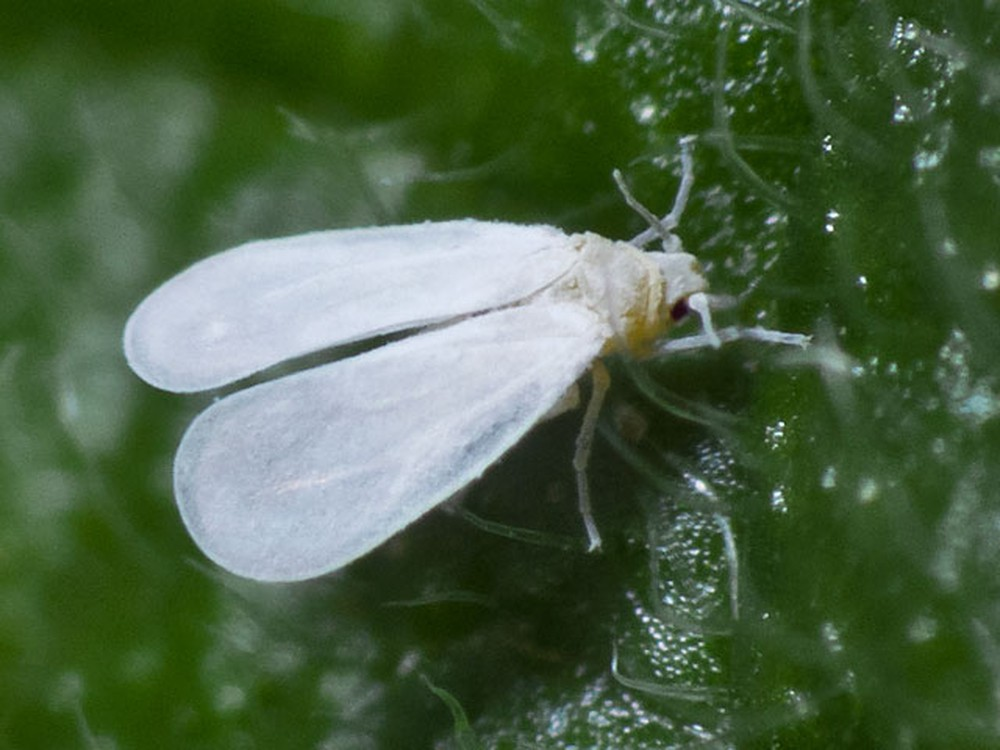Mosca Blanca: (124, 131, 852, 600)
